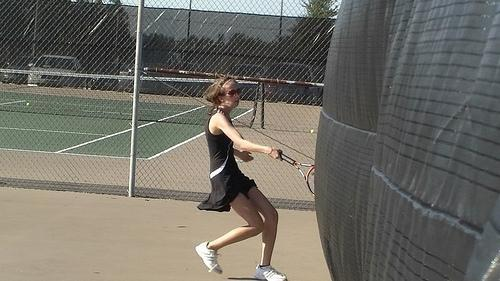car: (247, 62, 324, 103), (26, 54, 88, 90), (0, 64, 28, 84)
